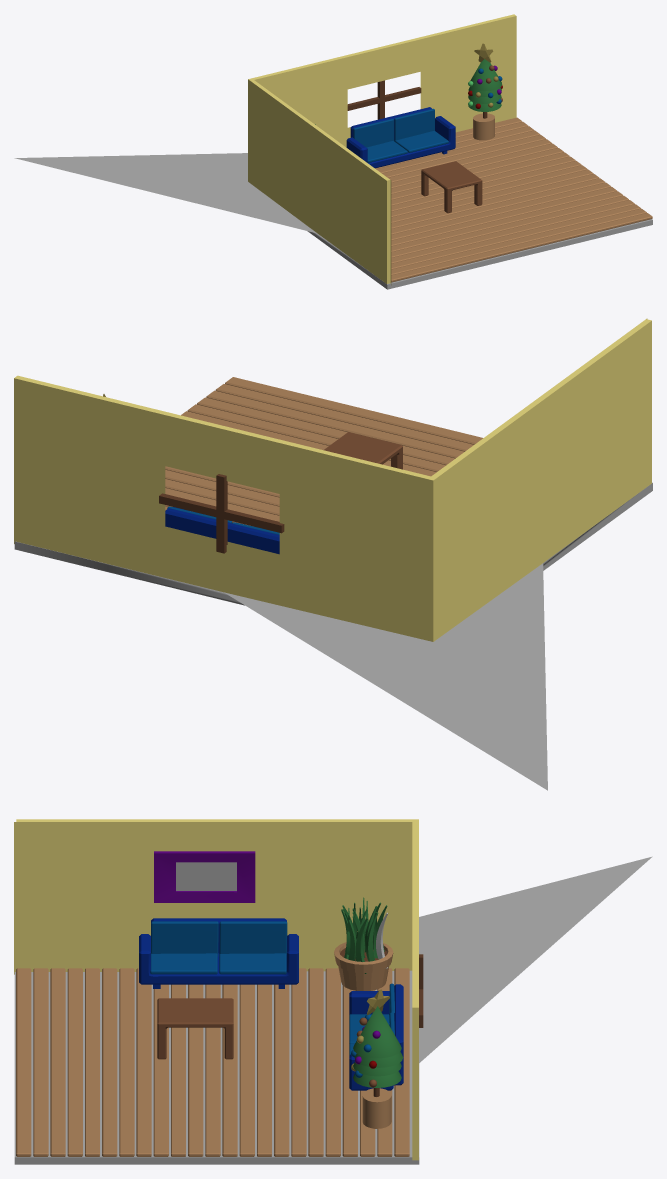
File: entregacp.fbx
The picture shows the model from 3 angles, top to bottom: view 1: azimuth 30°, elevation 25°; view 2: azimuth 150°, elevation 25°; view 3: azimuth 270°, elevation 25°; orthographic projection. The views are drawn at different scales.
Parts seen in each view (by area): view 1: paredes, tabuas, chao, sofa, mesa_centro, pasted__pCube6, pasted__pasted__pCube6, pCube1, pCube4, pCone4, pCube5, vaso; view 2: paredes, chao, tabuas, pCube1, sofa, mesa_centro; view 3: tabuas, paredes, chao, pCube7, sofa (×2), mesa_centro, pasted__pCube6, pasted__pasted__pCube6, pCylinder2, pCube4, pCube5, pCone4 (+1 smaller).
Boxes of the visible parts, x1,y1,x2,y2 form: paredes: (248,14,516,285); tabuas: (375,117,652,282); chao: (14,153,652,289); sofa: (346,107,455,168); mesa_centro: (421,161,482,213); pasted__pCube6: (394,108,434,140); pasted__pasted__pCube6: (353,118,393,147); pCube1: (347,80,421,119); pCube4: (394,130,448,152); pCone4: (470,59,502,91); pCube5: (366,141,407,162); vaso: (473,113,494,140); paredes: (14,318,651,641); chao: (14,482,652,790); tabuas: (165,377,482,525); pCube1: (159,474,284,553); sofa: (165,507,279,554); mesa_centro: (323,432,402,469); tabuas: (16,968,409,1156); paredes: (14,819,418,1160); chao: (14,856,652,1164); pCube7: (154,851,255,902); sofa (×2): (139,918,403,1090); mesa_centro: (157,998,233,1059); pasted__pCube6: (219,921,287,953); pasted__pasted__pCube6: (151,921,218,956); pCylinder2: (334,942,393,990); pCube4: (219,953,286,974); pCube5: (150,953,217,974); pCone4: (353,1006,401,1058).
Bounding box in the file's own units: 15.84 × 3.91 × 14.4.
